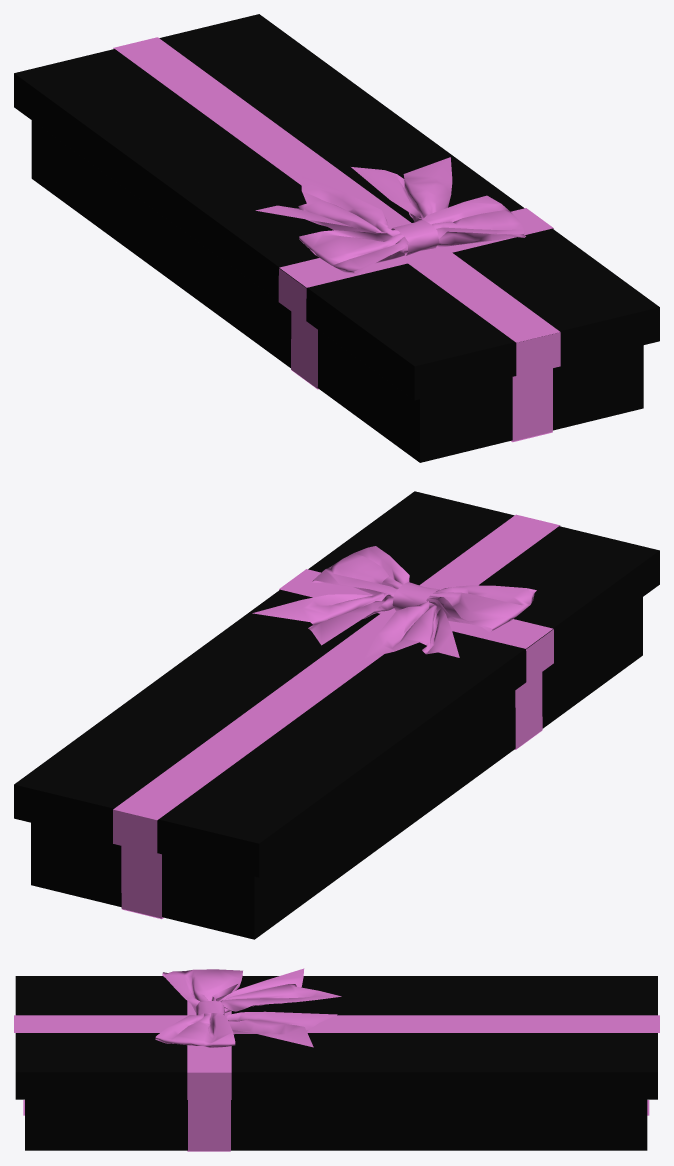
Rendered from cercueil-couvercle.glb.
The picture shows the model from 3 angles, top to bottom: view 1: azimuth 30°, elevation 25°; view 2: azimuth 150°, elevation 25°; view 3: azimuth 270°, elevation 25°; orthographic projection. The views are drawn at different scales.
Parts seen in each view (by area): view 1: Plan.010, Cube.007; view 2: Plan.010, Cube.007; view 3: Plan.010, Cube.007.
Boxes of the visible parts, left/top/right/bottom form: Plan.010: left=14, top=14, right=659, bottom=400; Cube.007: left=31, top=120, right=643, bottom=462; Plan.010: left=14, top=491, right=659, bottom=877; Cube.007: left=31, top=597, right=642, bottom=939; Plan.010: left=14, top=968, right=659, bottom=1099; Cube.007: left=23, top=1099, right=649, bottom=1151.
Bounding box in the file's own units: 4.44 × 2.15 × 12.5.
